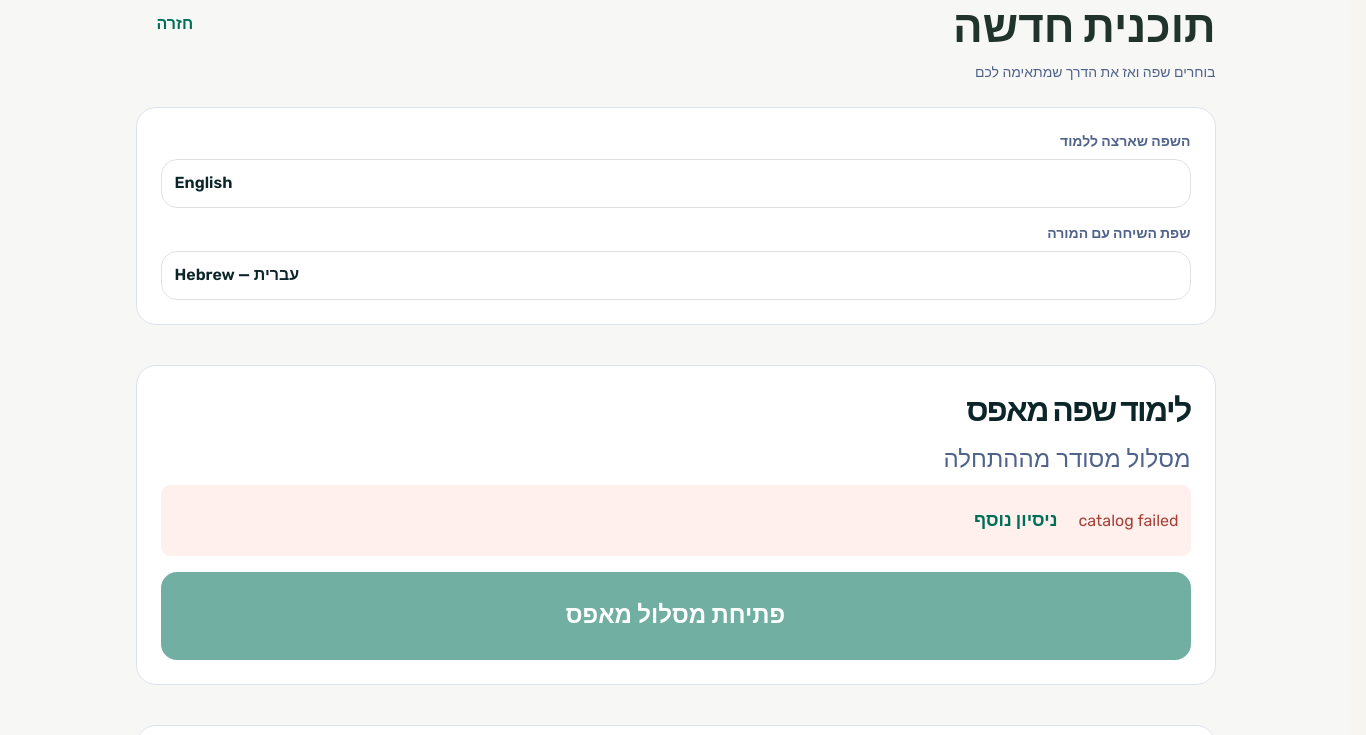
Test: program chooser DEV design=false › shows failed catalog loading with retry and keeps the map closed if saving fails
Expected: the message shows "catalog failed", [1078,511,1178,530]
Expected: the button "פתיחת מסלול מאפס" is disabled, [160,572,1190,660]
Click the button "ניסיון נוסף".
click(1016, 520)  # box [953,495,1078,546]
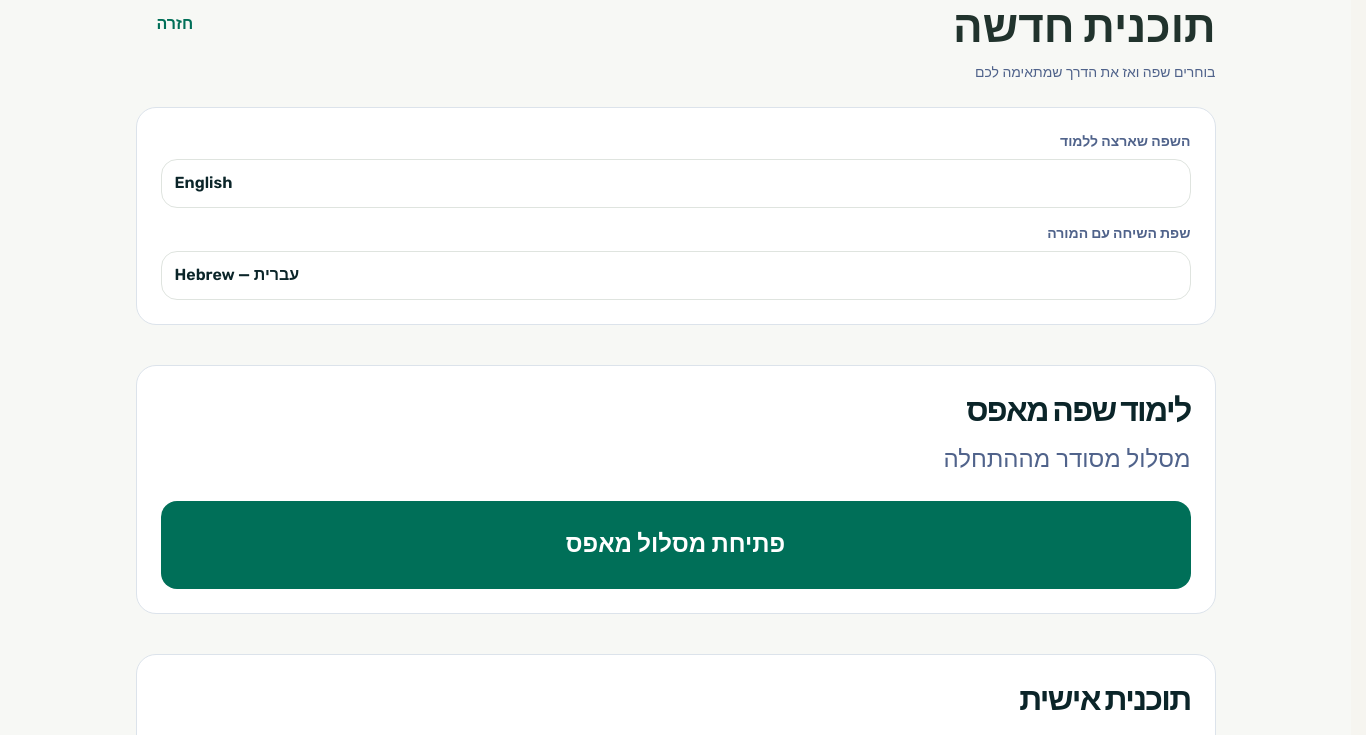
Expected: the button "פתיחת מסלול מאפס" is enabled
Click the button "פתיחת מסלול מאפס".
click(676, 545)  # box [160,501,1190,589]
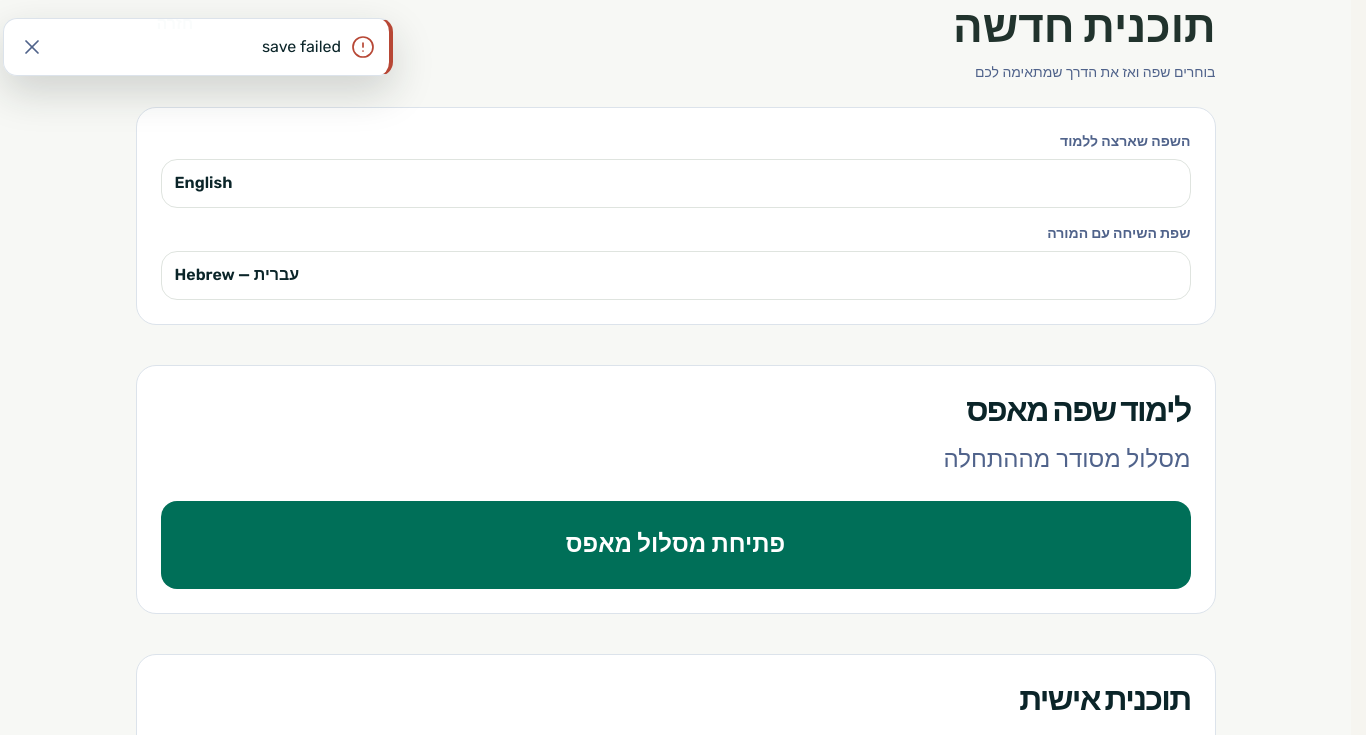
Expected: the text "save failed" is shown, [262,37,341,56]
